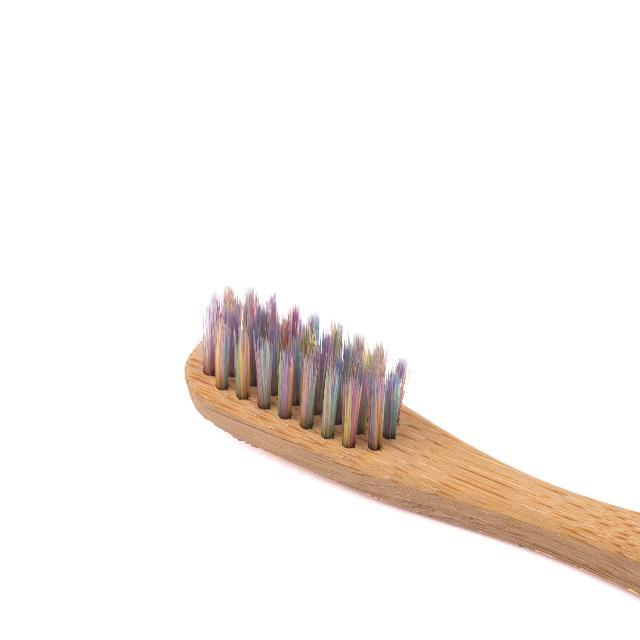toothbrush: (146, 268, 640, 640)
